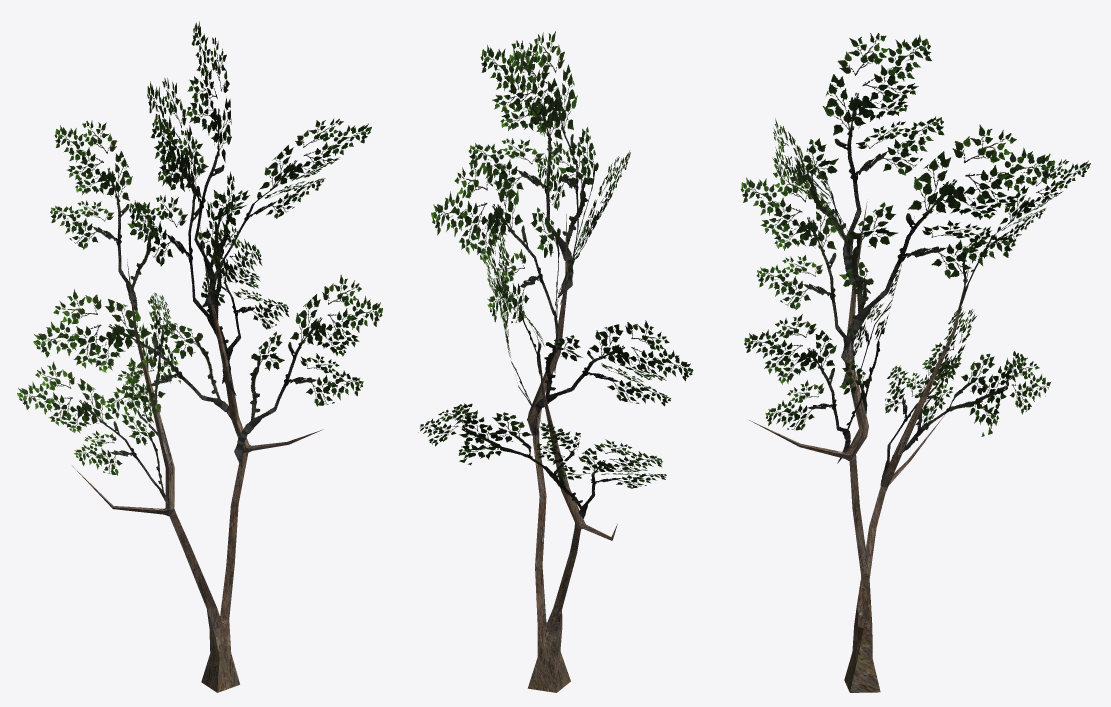
Rendered from tree_6_lod.dae.
The picture shows the model from 3 angles, left to right: view 1: azimuth 30°, elevation 25°; view 2: azimuth 150°, elevation 25°; view 3: azimuth 270°, elevation 25°; orthographic projection. The views are drawn at different scales.
Parts seen in each view (by area): view 1: Mesh_Object; view 2: Mesh_Object; view 3: Mesh_Object.
Boxes of the visible parts, x1,y1,x2,y2 form: Mesh_Object: (17, 21, 382, 692); Mesh_Object: (418, 31, 693, 692); Mesh_Object: (740, 33, 1090, 692).
Bounding box in the file's own units: 4.4 × 9.67 × 4.77.
